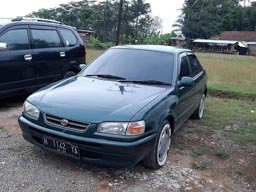plat: (41, 137, 80, 159)
